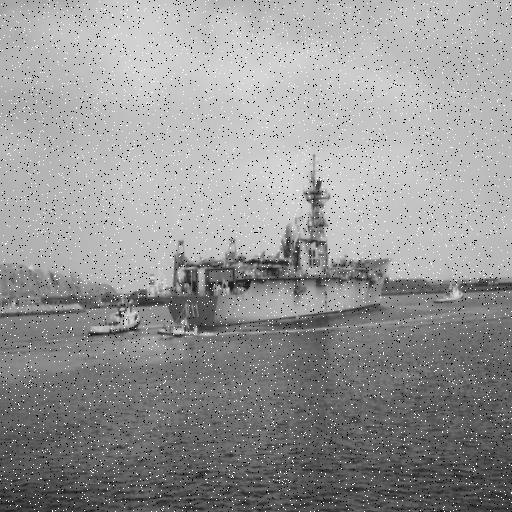Portanaves: (162, 139, 393, 337)
